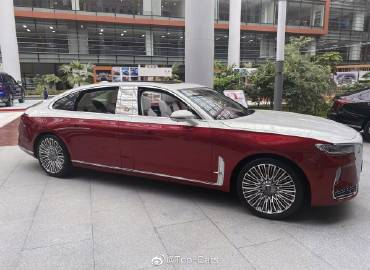other: (16, 78, 370, 217)
